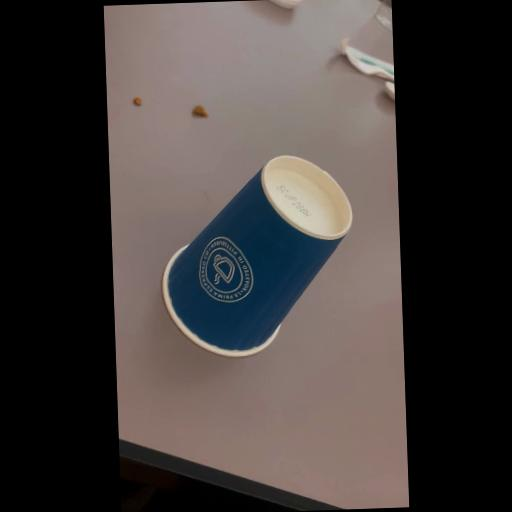lp_paper_cup: (154, 150, 358, 366)
